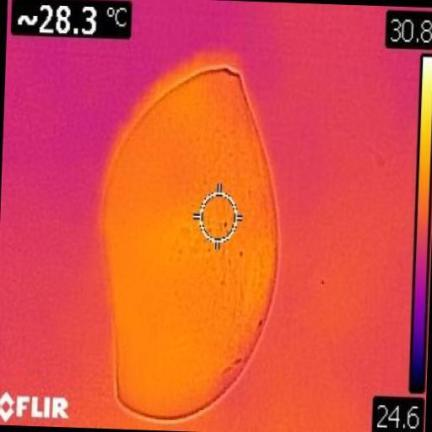mango: (102, 66, 276, 418)
